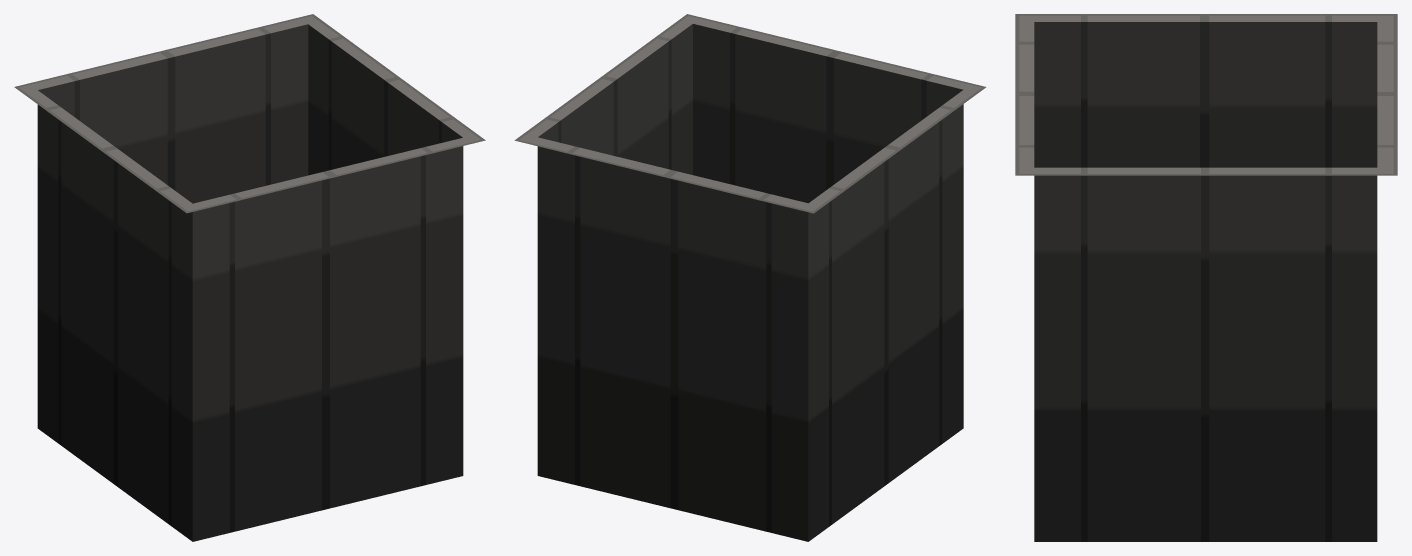
The model's file is SD_Env_Pit_01.fbx.
3 renders of one model, left to right at view 1: azimuth 30°, elevation 25°; view 2: azimuth 150°, elevation 25°; view 3: azimuth 270°, elevation 25°, orthographic. The views are drawn at different scales.
Parts seen in each view (by area): view 1: SD_Env_Pit_01; view 2: SD_Env_Pit_01; view 3: SD_Env_Pit_01.
Part boxes in pixels (bbox=[...]): SD_Env_Pit_01: bbox=[14, 14, 485, 541]; SD_Env_Pit_01: bbox=[514, 14, 986, 541]; SD_Env_Pit_01: bbox=[1015, 14, 1397, 541].
Bounding box in the file's own units: 5 × 5.4 × 5.
